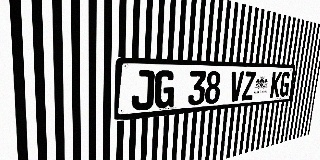3: (188, 71, 206, 106)
8: (204, 71, 222, 104)
G: (154, 70, 176, 109), (279, 72, 291, 97)
J: (131, 70, 155, 111)
K: (269, 72, 282, 98)
V: (229, 71, 244, 102)
Z: (241, 71, 256, 101)
